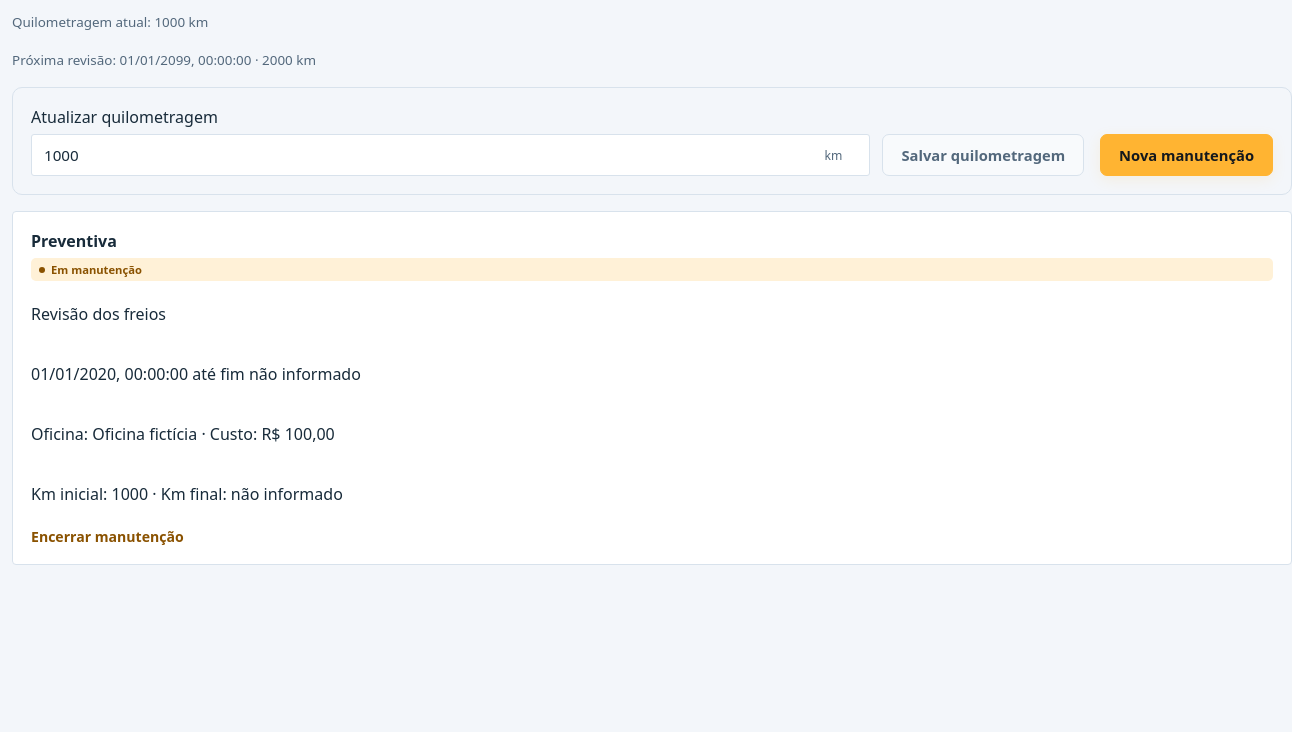
Test case: manutenção da frota › atualiza quilometragem e apresenta erro do backend
Expected: the text "Revisão dos freios" is shown, [31,303,166,325]
Replace the text in the number field labelled "Atualizar quilometragem" with "1500" at [451, 155], box [31,134,870,176]
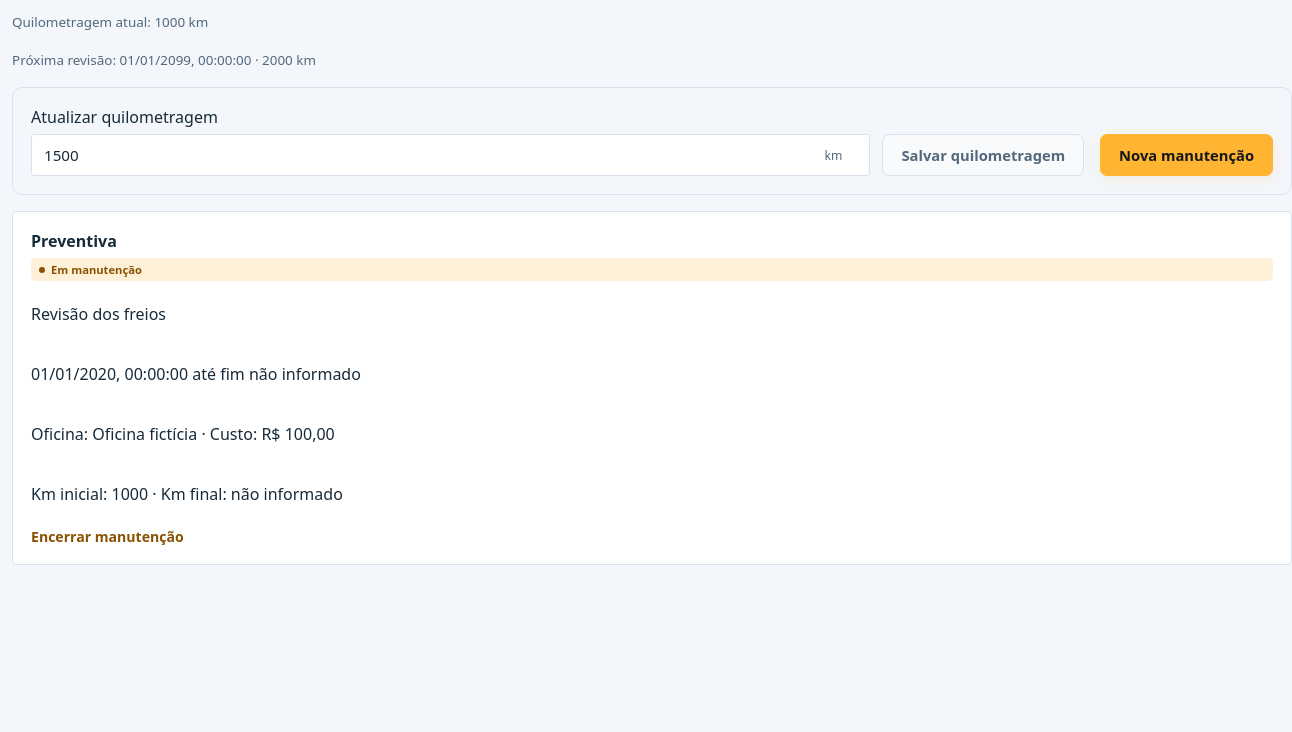
Click the button "Salvar quilometragem".
click(983, 155)  # box [882,134,1084,176]
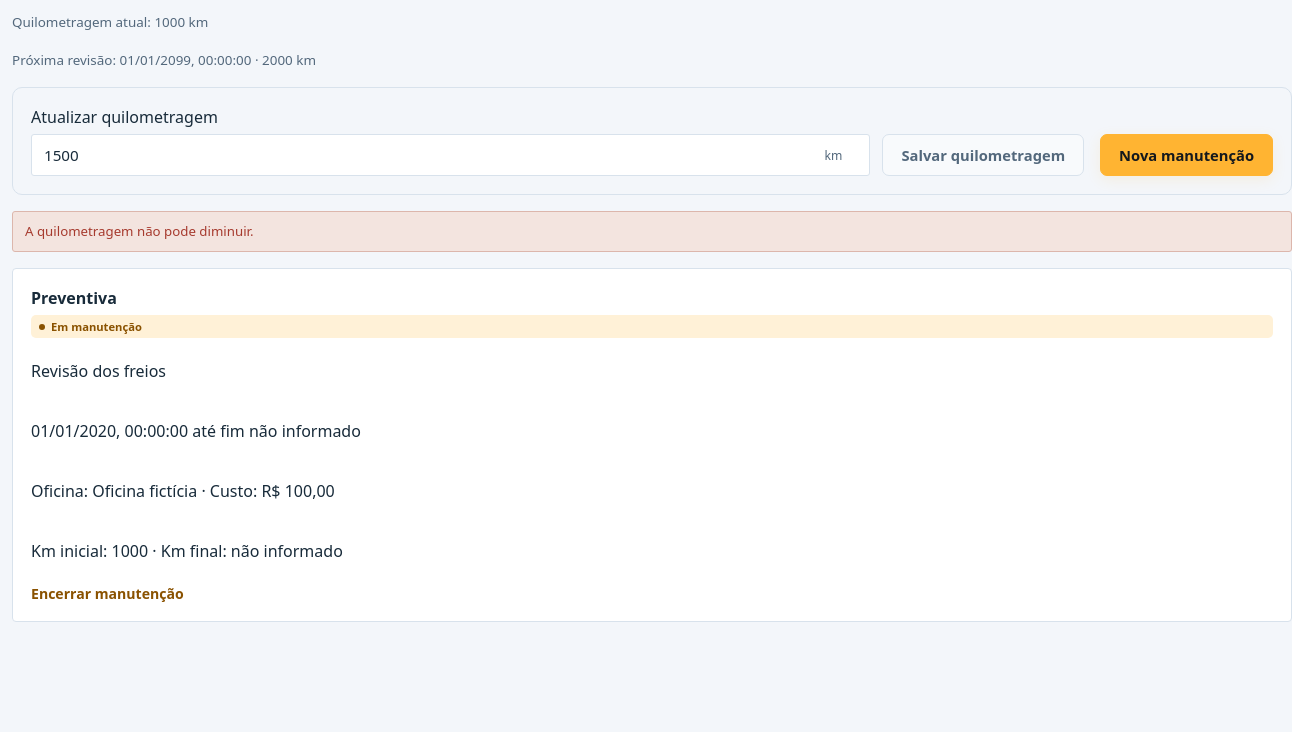
Expected: the text "A quilometragem não pode diminuir." is shown, [12,211,1291,252]
